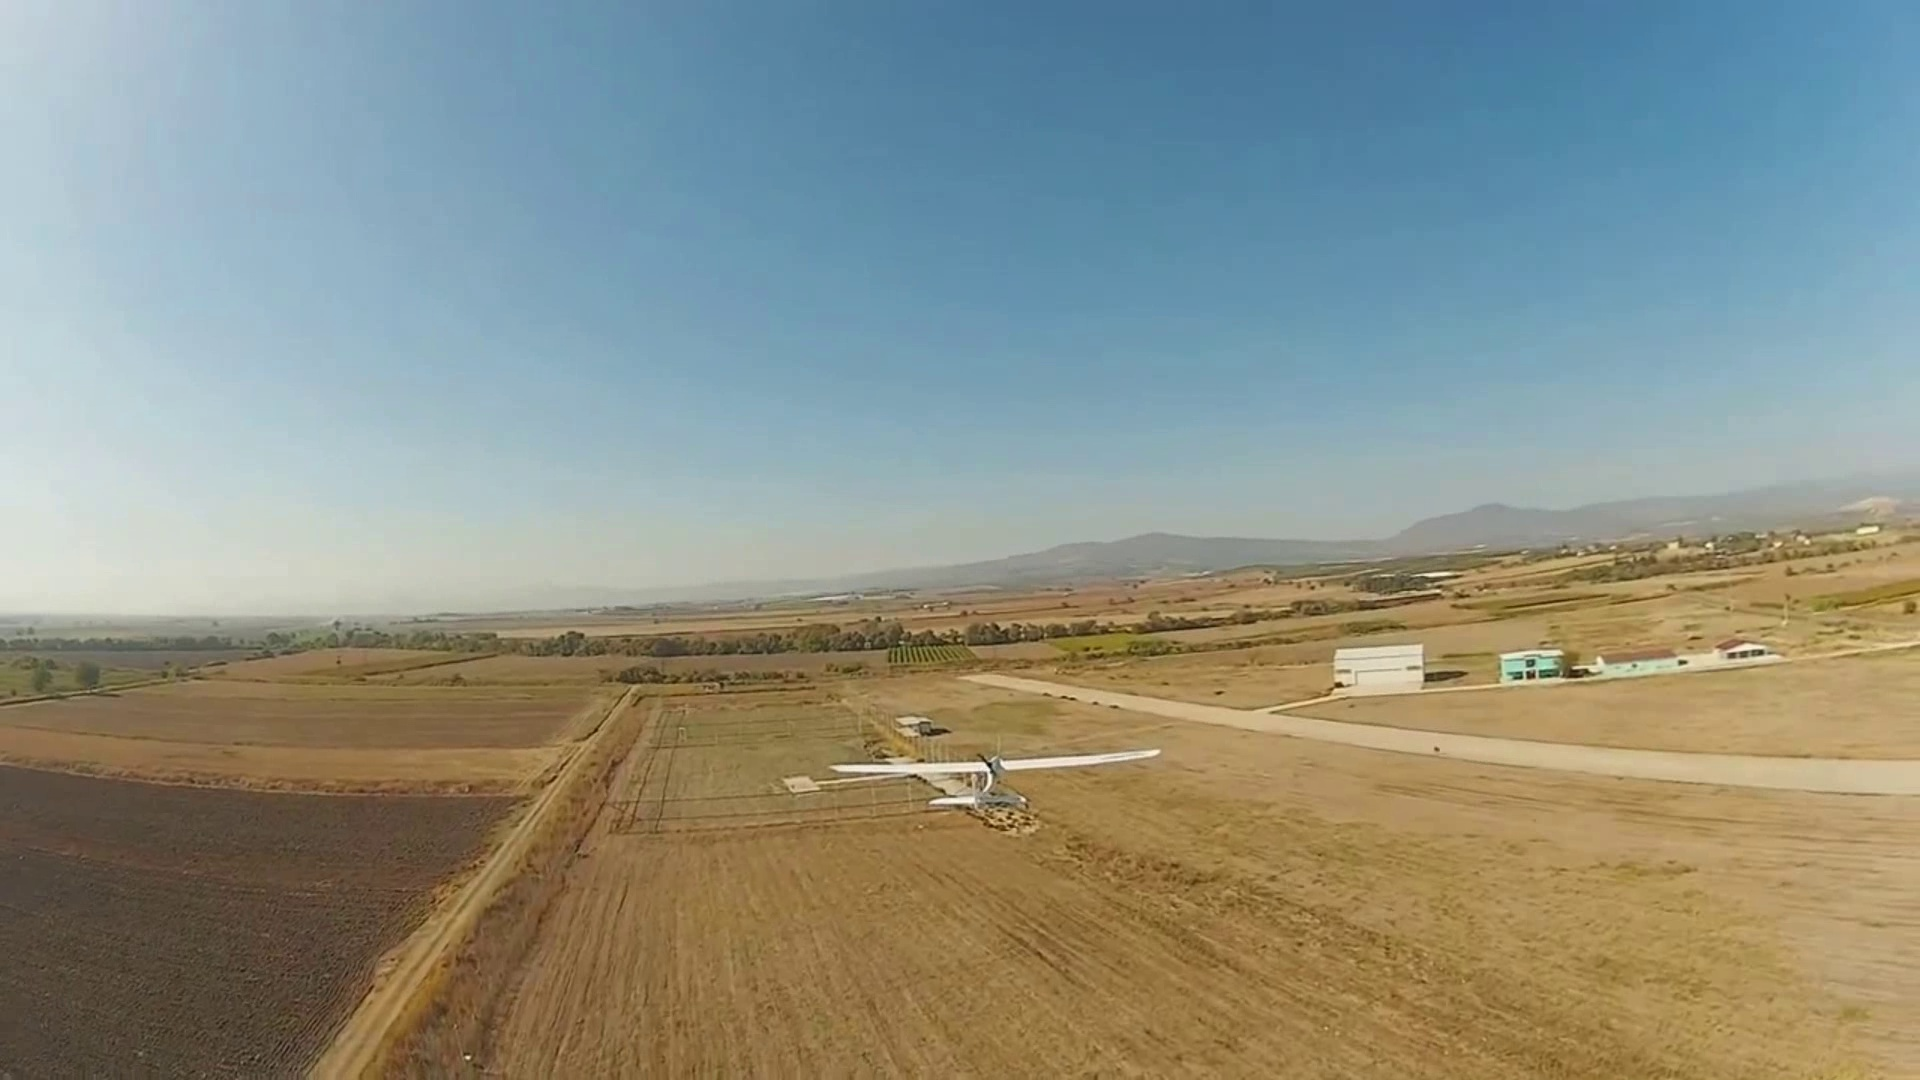airplane: (823, 713, 1168, 828)
